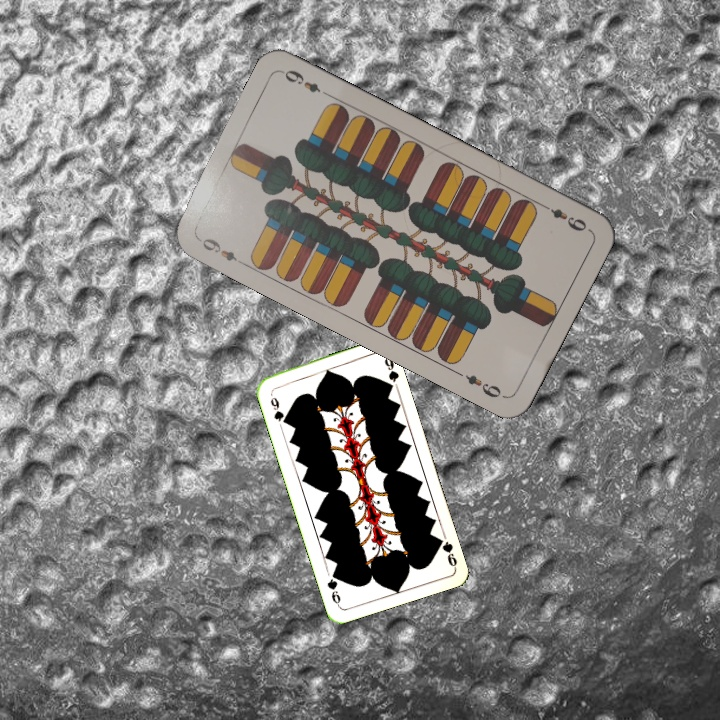E9: (537, 199, 590, 234), (198, 234, 248, 268)
G9: (433, 533, 460, 570), (266, 393, 289, 427)
